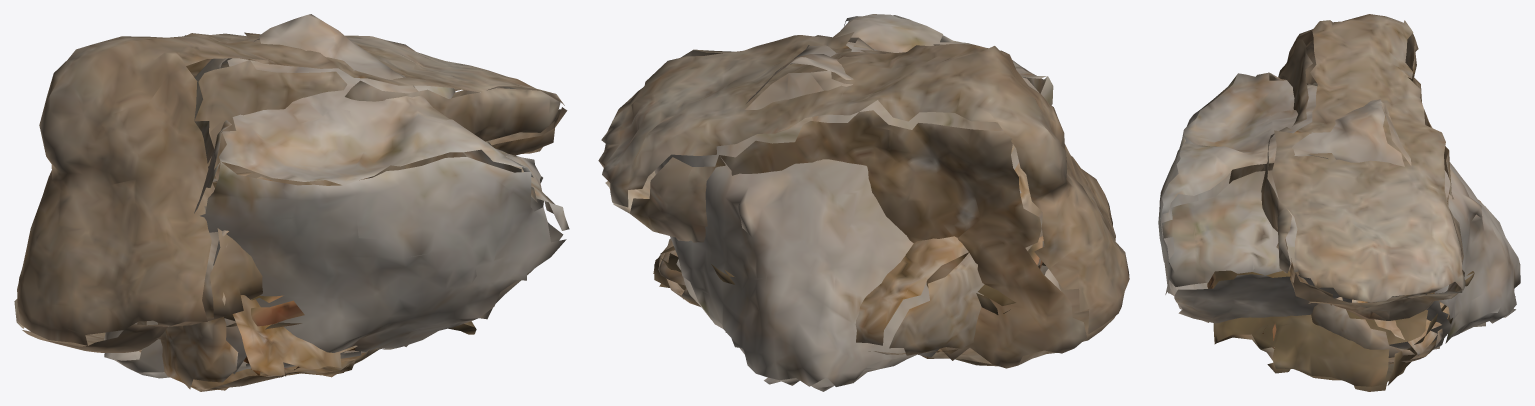
File: namaqualand-stones-01.glb
The picture shows the model from 3 angles, left to right: view 1: azimuth 30°, elevation 25°; view 2: azimuth 150°, elevation 25°; view 3: azimuth 270°, elevation 25°; orthographic projection. The views are drawn at different scales.
Visible parts, largest first — view 1: namaqualand_stones_01_b, namaqualand_stones_01_e, namaqualand_stones_01_c, namaqualand_stones_01_d; view 2: namaqualand_stones_01_b, namaqualand_stones_01_e, namaqualand_stones_01_c, namaqualand_stones_01_d; view 3: namaqualand_stones_01_b, namaqualand_stones_01_e, namaqualand_stones_01_d, namaqualand_stones_01_c.
Boxes of the visible parts, bbox=[...] form: namaqualand_stones_01_b: bbox=[14, 32, 567, 352]; namaqualand_stones_01_e: bbox=[104, 14, 569, 378]; namaqualand_stones_01_c: bbox=[137, 172, 378, 391]; namaqualand_stones_01_d: bbox=[213, 183, 476, 334]; namaqualand_stones_01_b: bbox=[598, 32, 1129, 368]; namaqualand_stones_01_e: bbox=[654, 14, 1060, 391]; namaqualand_stones_01_c: bbox=[658, 144, 1048, 355]; namaqualand_stones_01_d: bbox=[653, 236, 1045, 314]; namaqualand_stones_01_b: bbox=[1229, 14, 1465, 320]; namaqualand_stones_01_e: bbox=[1158, 72, 1520, 349]; namaqualand_stones_01_d: bbox=[1207, 270, 1474, 391]; namaqualand_stones_01_c: bbox=[1311, 199, 1481, 364].
Size of the model in its own units: 0.1482 by 0.0838 by 0.1109.
Materials: 5 (5 with a texture image).
